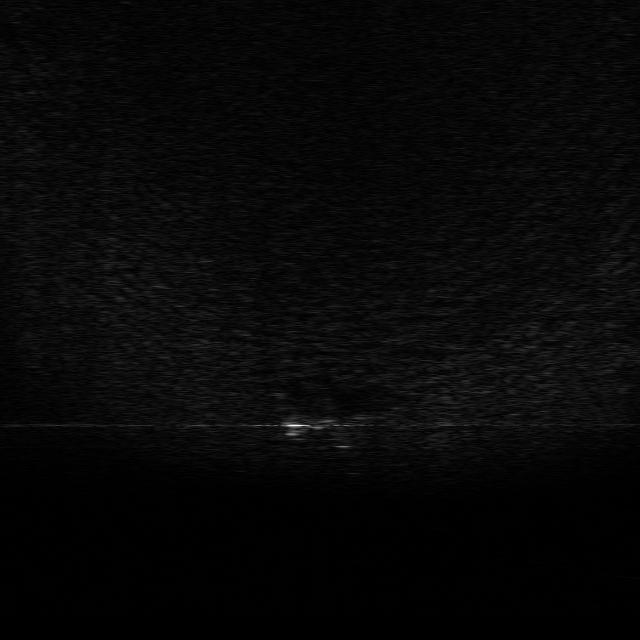plane: (272, 394, 380, 452)
